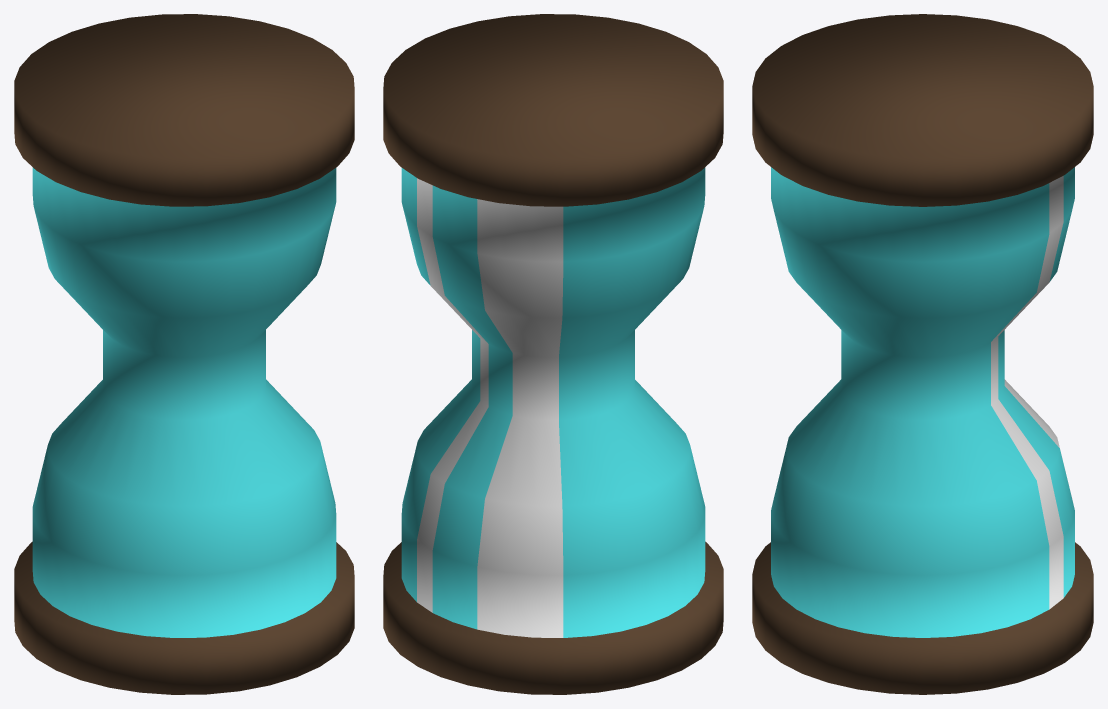
File: HourGlass 1.fbx
The picture shows the model from 3 angles, left to right: view 1: azimuth 30°, elevation 25°; view 2: azimuth 150°, elevation 25°; view 3: azimuth 270°, elevation 25°; orthographic projection.
Parts seen in each view (by area): view 1: Cylinder; view 2: Cylinder; view 3: Cylinder.
Boxes of the visible parts, bbox=[...] form: Cylinder: bbox=[14, 14, 354, 694]; Cylinder: bbox=[383, 14, 723, 694]; Cylinder: bbox=[752, 14, 1093, 694].
Size of the model in its own units: 224 by 389 by 224.
